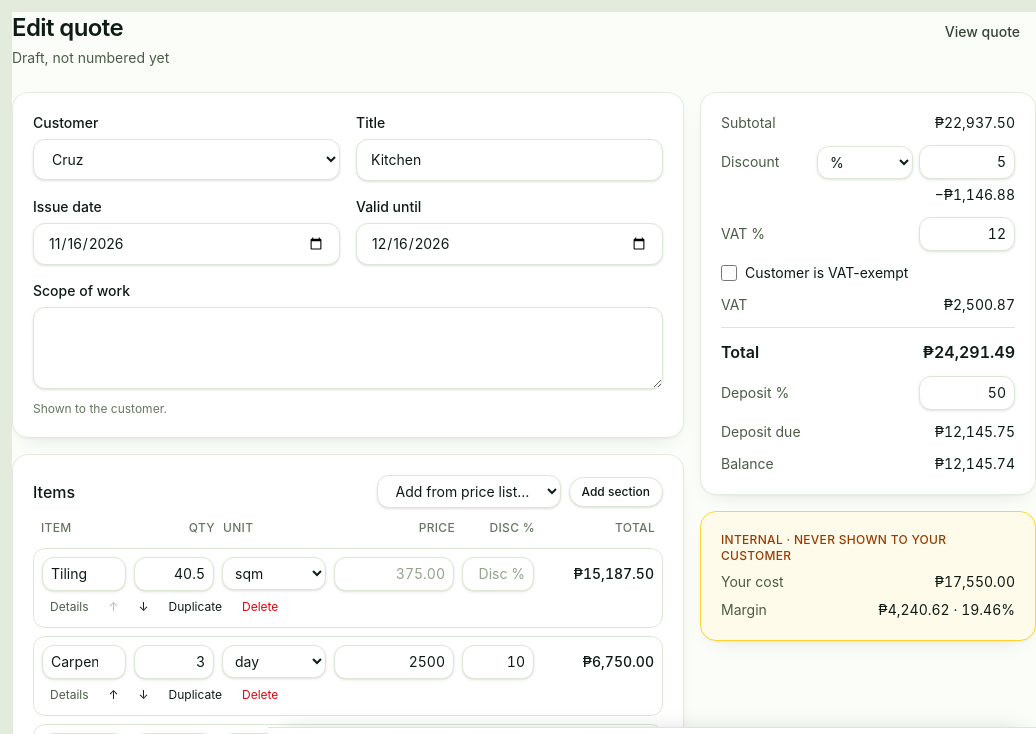
Test: quote builder › applies a VAT-exempt customer's status when the customer changes
The width and height of the screenshot is (1036, 734).
Select "Reyes — Reyes Inc" in the dropdown labelled "Customer": point(186, 160) [33,139,340,180]
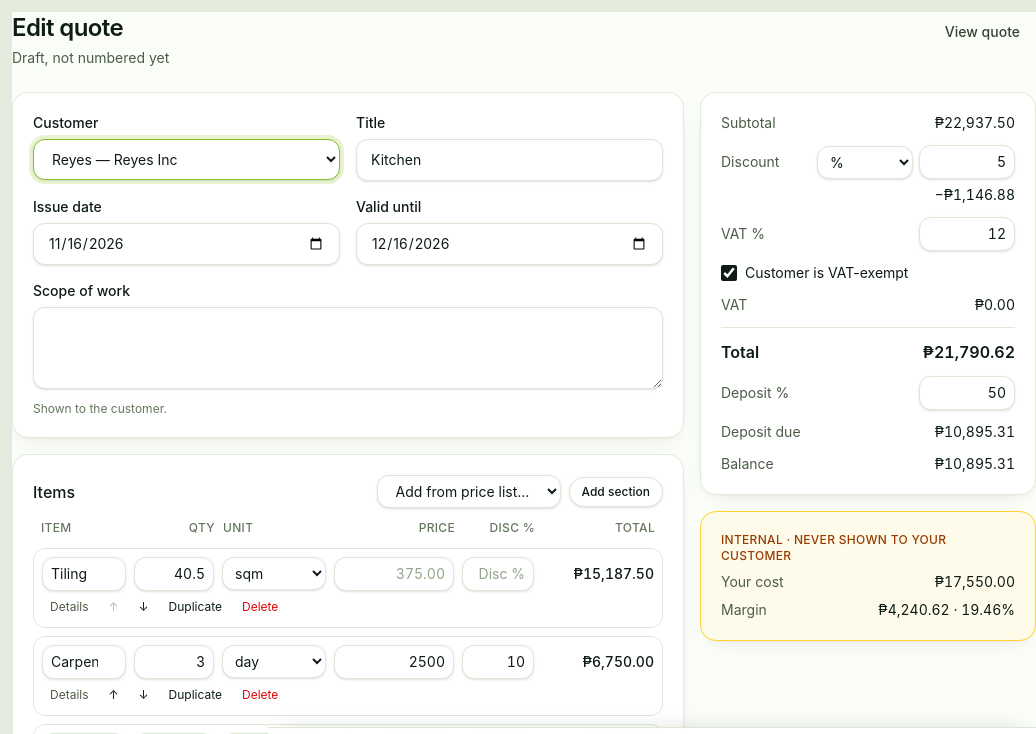
Expected: the checkbox labelled "Customer is VAT-exempt" is checked, [721,265,737,281]
Expected: the text "₱0.00" is shown, [975,295,1015,315]
